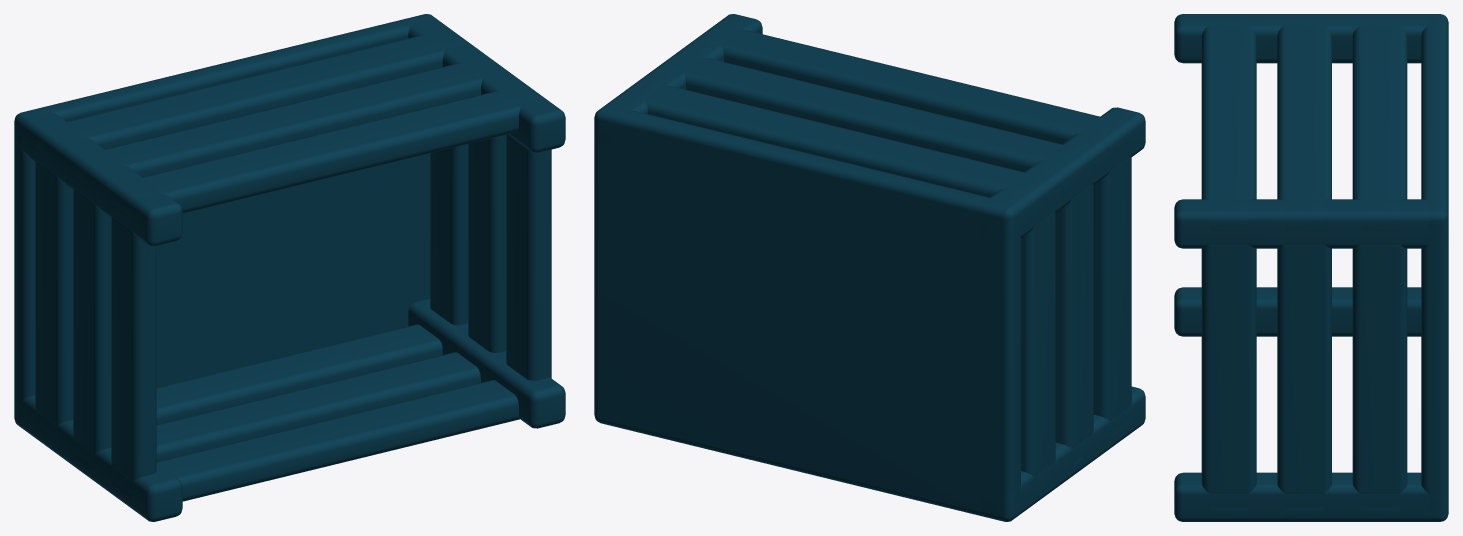
File: SM_FishingCrate.obj
3 renders of one model, left to right at view 1: azimuth 30°, elevation 25°; view 2: azimuth 150°, elevation 25°; view 3: azimuth 270°, elevation 25°, orthographic.
Visible parts, largest first — view 1: SM_FishingCrate; view 2: SM_FishingCrate; view 3: SM_FishingCrate.
Boxes of the visible parts, <box> form: SM_FishingCrate: <box>14,14,565,521</box>; SM_FishingCrate: <box>594,14,1145,521</box>; SM_FishingCrate: <box>1174,14,1448,521</box>.
Size of the model in its own units: 70 by 50 by 40.
